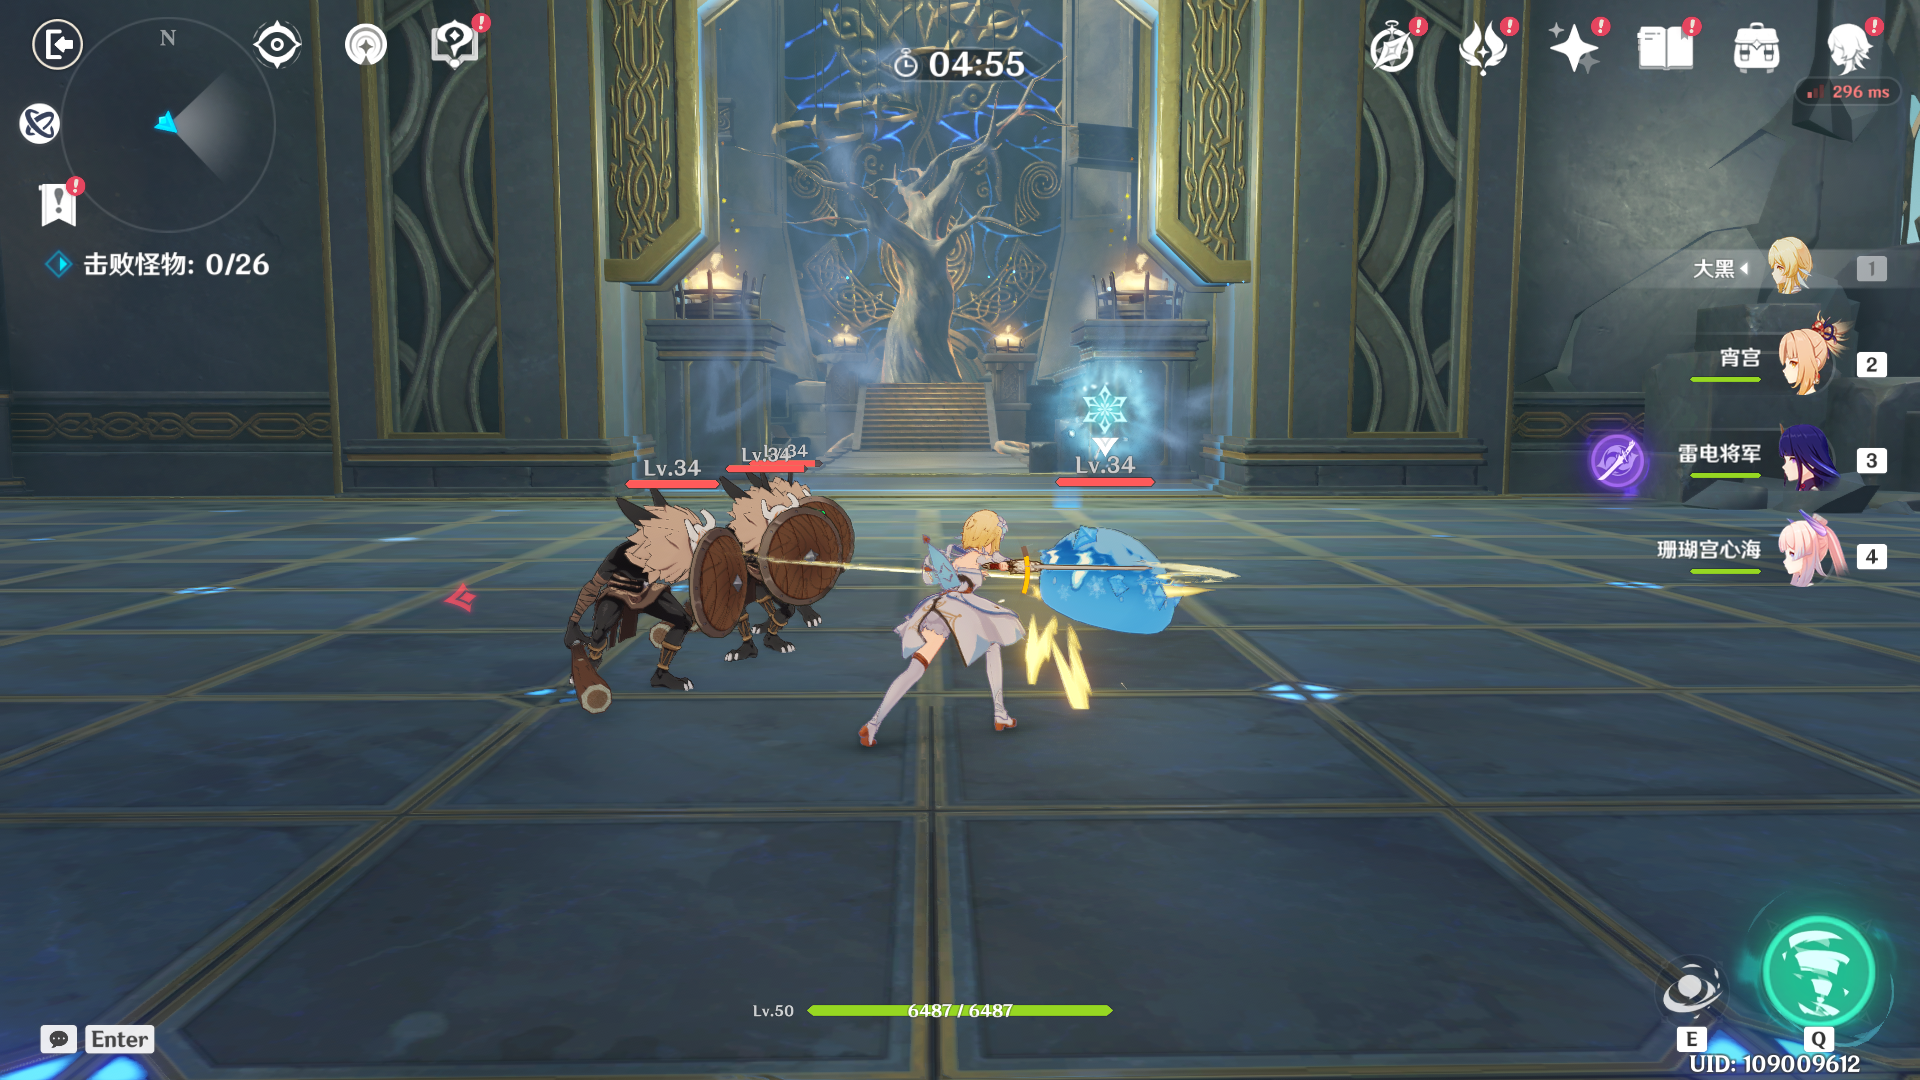character: (837, 485, 1073, 778)
hili: (538, 496, 741, 720), (708, 463, 857, 671)
slime: (1033, 506, 1209, 657)
